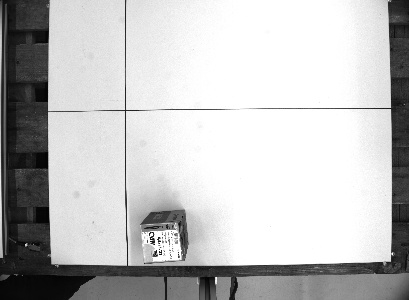b4: (136, 207, 188, 265)
